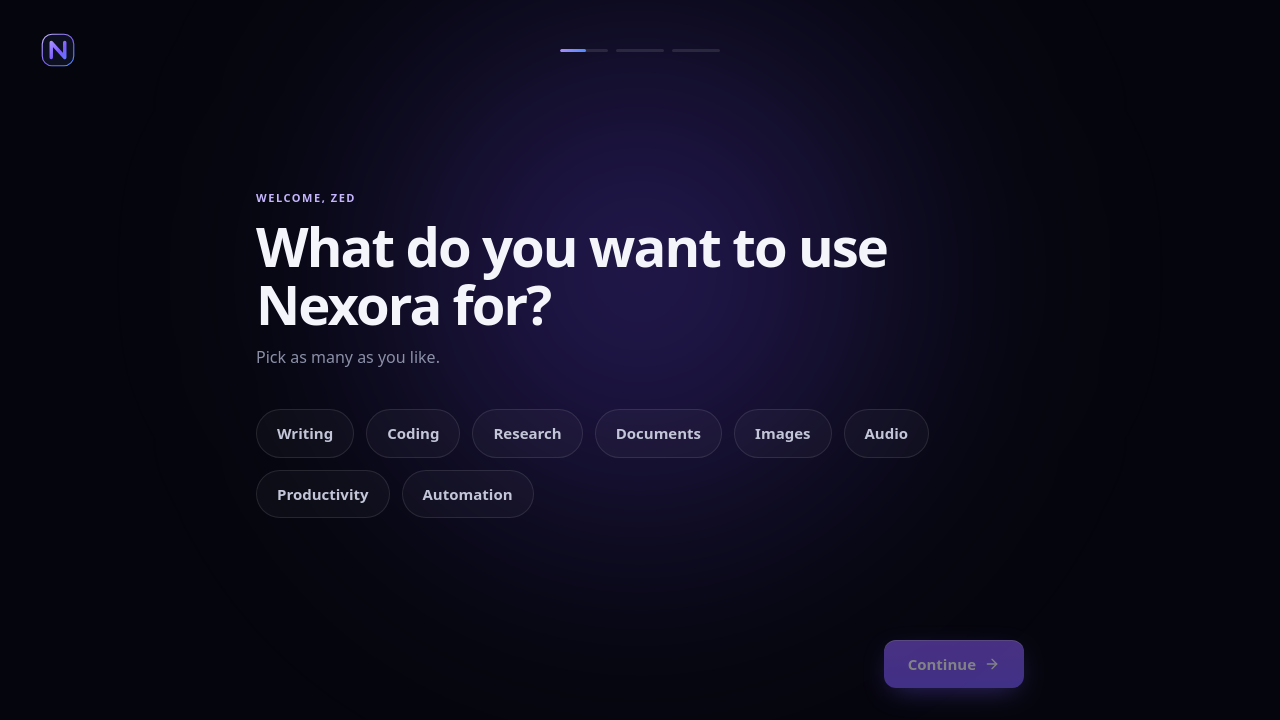
onboarding › can go back and keeps selections
Click the button "Research": x=528, y=434 [472,409,583,458]
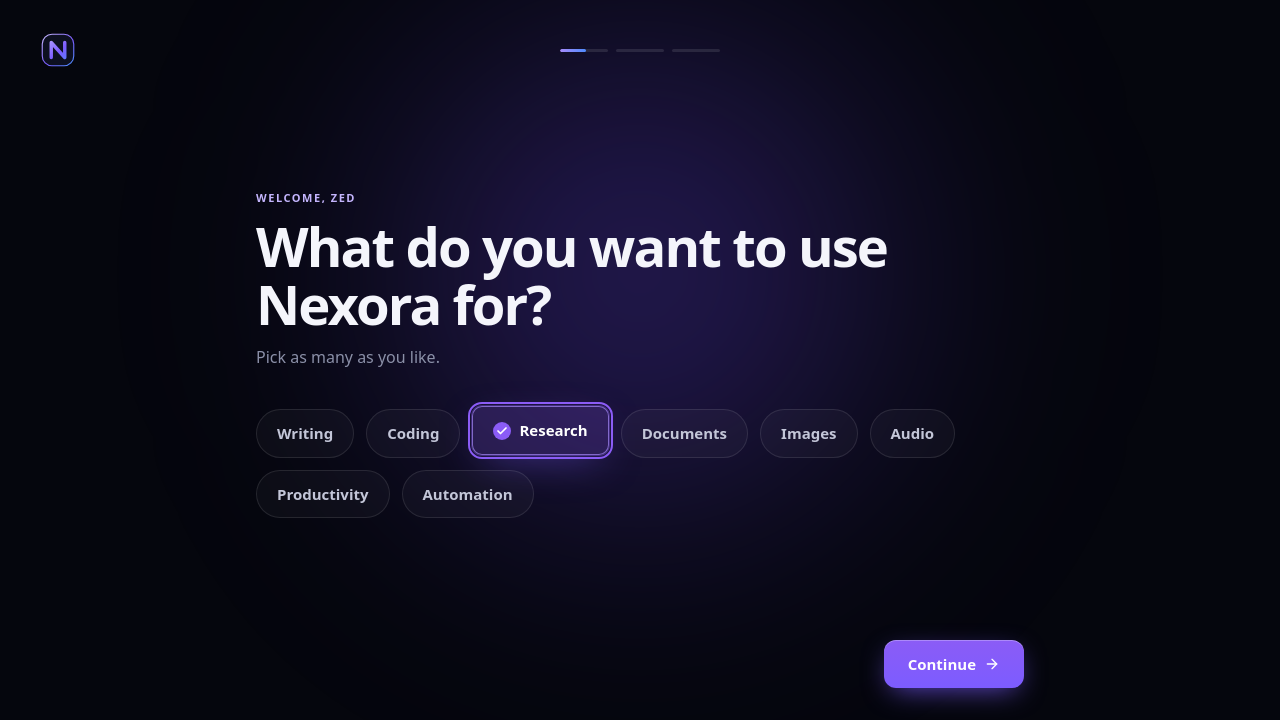
Click the button "Continue": x=954, y=664 [884,640,1024,688]
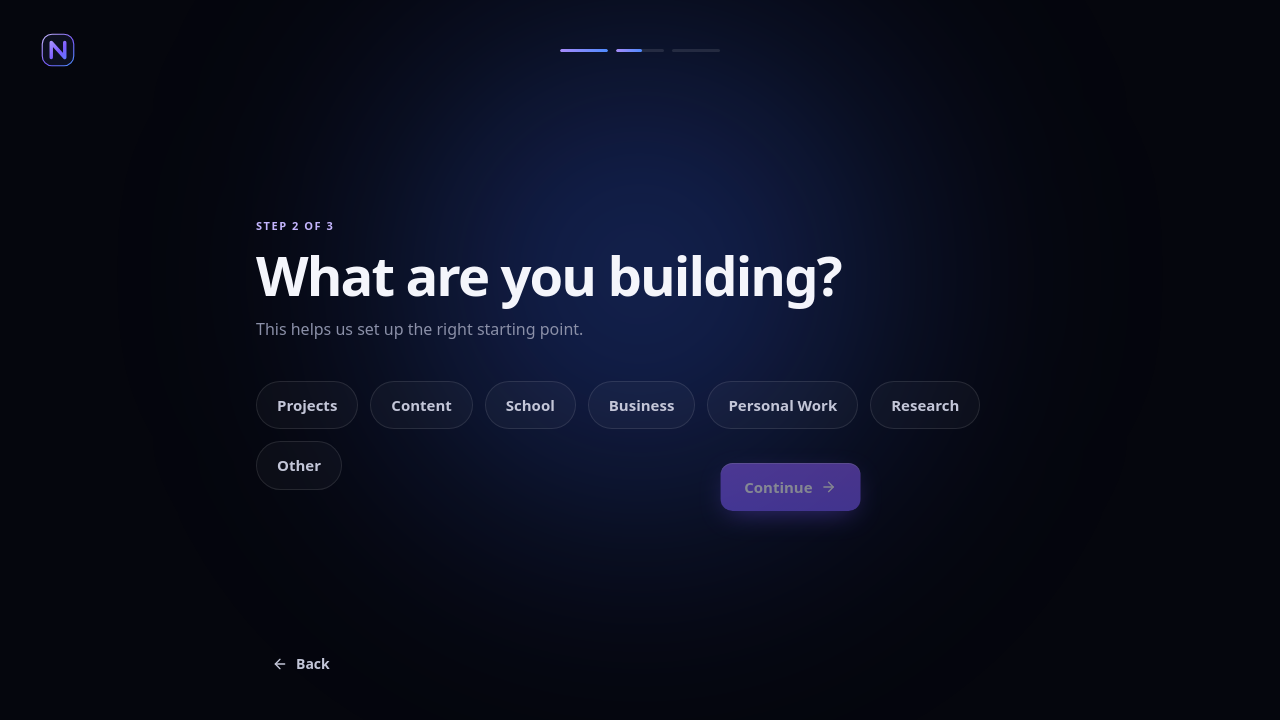
Now the heading "What are you building?" is shown, box [256,238,841,312]
Click the button "Back": x=301, y=664 [256,644,346,684]
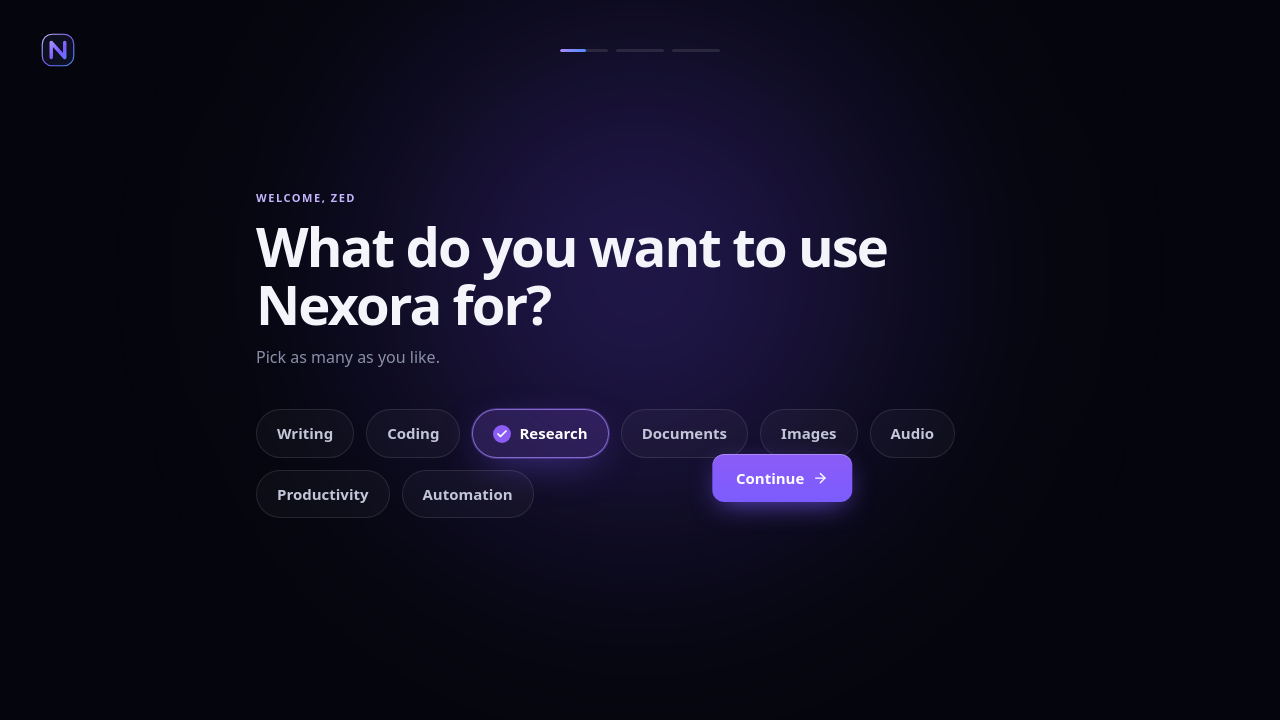
Now the heading "What do you want to use Nexora for?" is shown, box [256,209,887,341]
